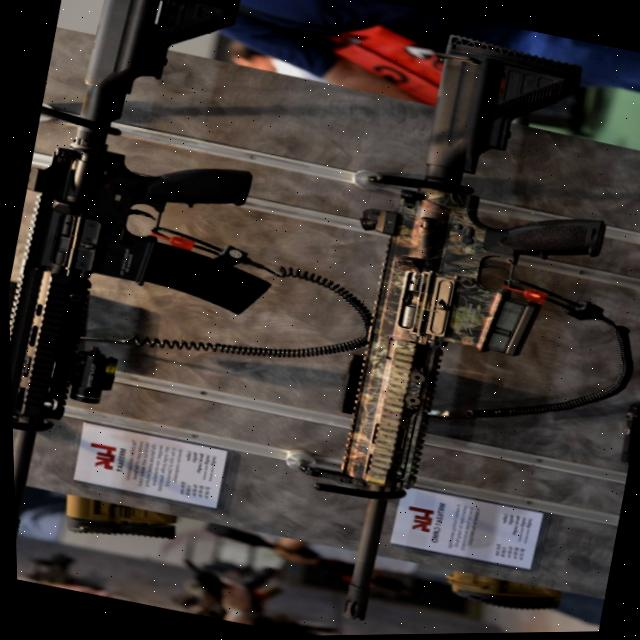firearm: (273, 20, 640, 637), (0, 0, 339, 588), (171, 549, 284, 618)
